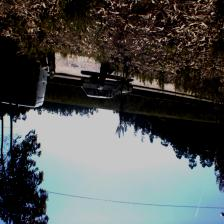trunktrack_idkeyframe: (0, 62, 4, 99), (8, 64, 12, 100)
